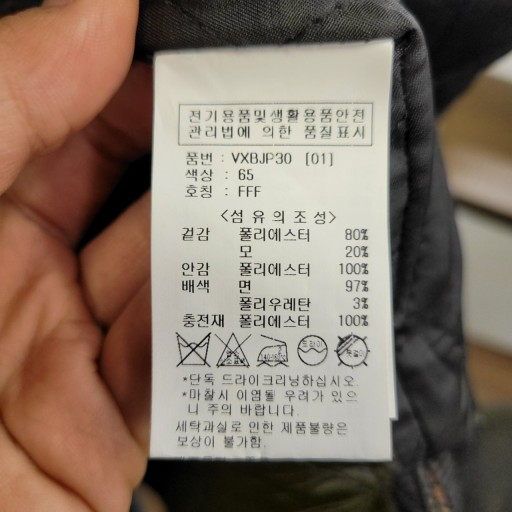KR_dry_clean: (295, 332, 329, 368)
KR_hang_dry_in_shade: (335, 332, 371, 369)
KR_iron_medium_temp_with_cloth: (254, 331, 291, 372)
KR_no_bleach: (216, 331, 252, 371)
KR_no_wash: (173, 329, 213, 370)
